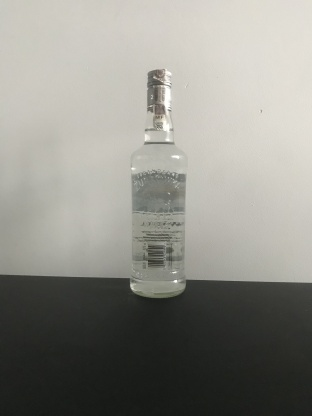nakretka: (145, 66, 173, 112)
